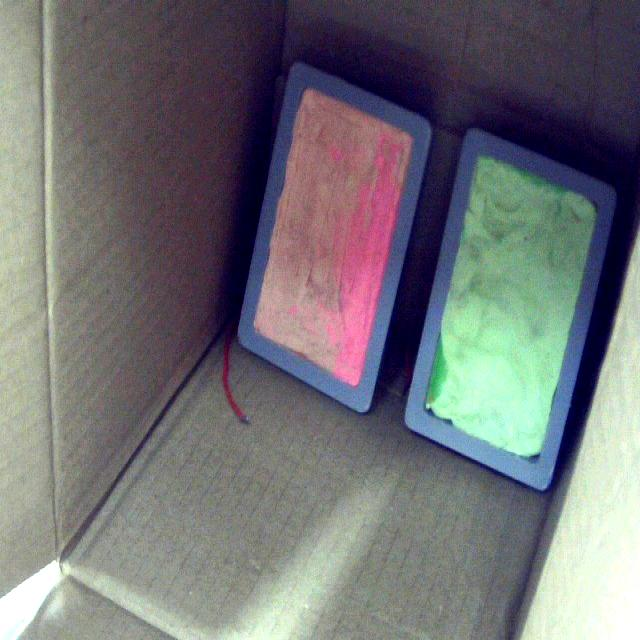block: (401, 133, 614, 493), (236, 66, 431, 420)
